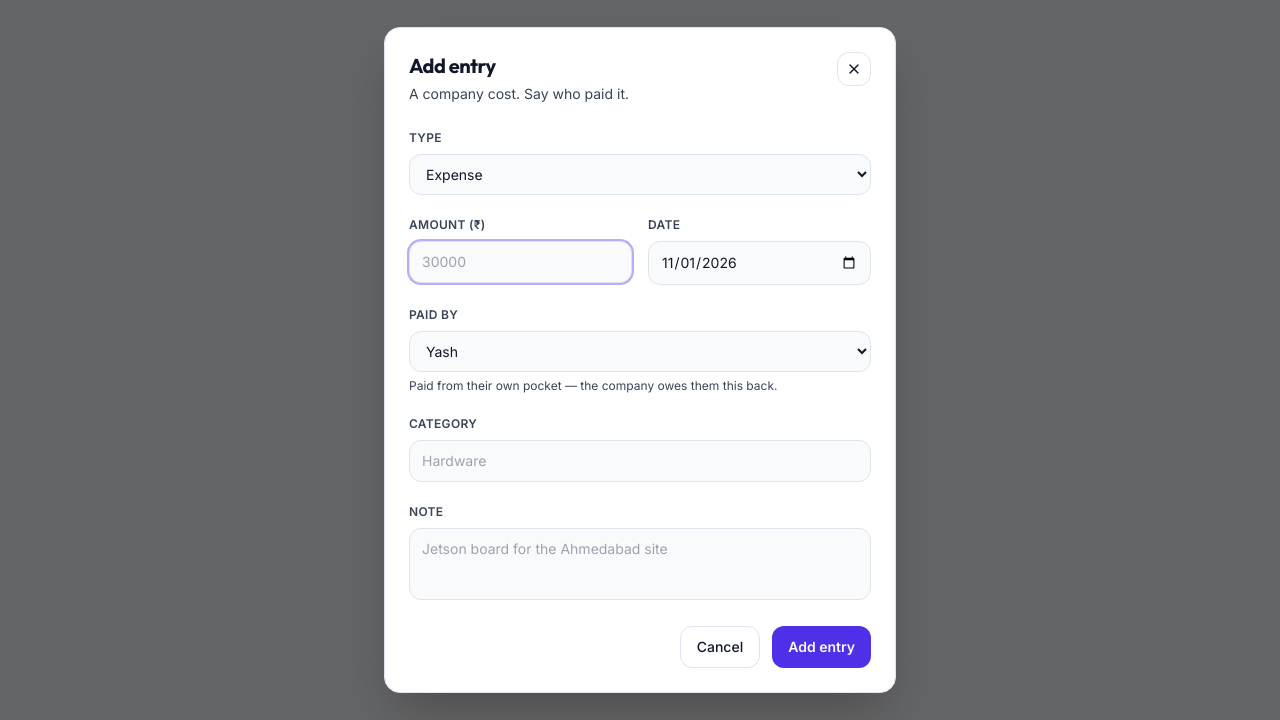
FundEntryDialog › refuses to save an empty amount
Click the button "Add entry" at point(822, 647), box x1=772 y1=626 x2=871 y2=668
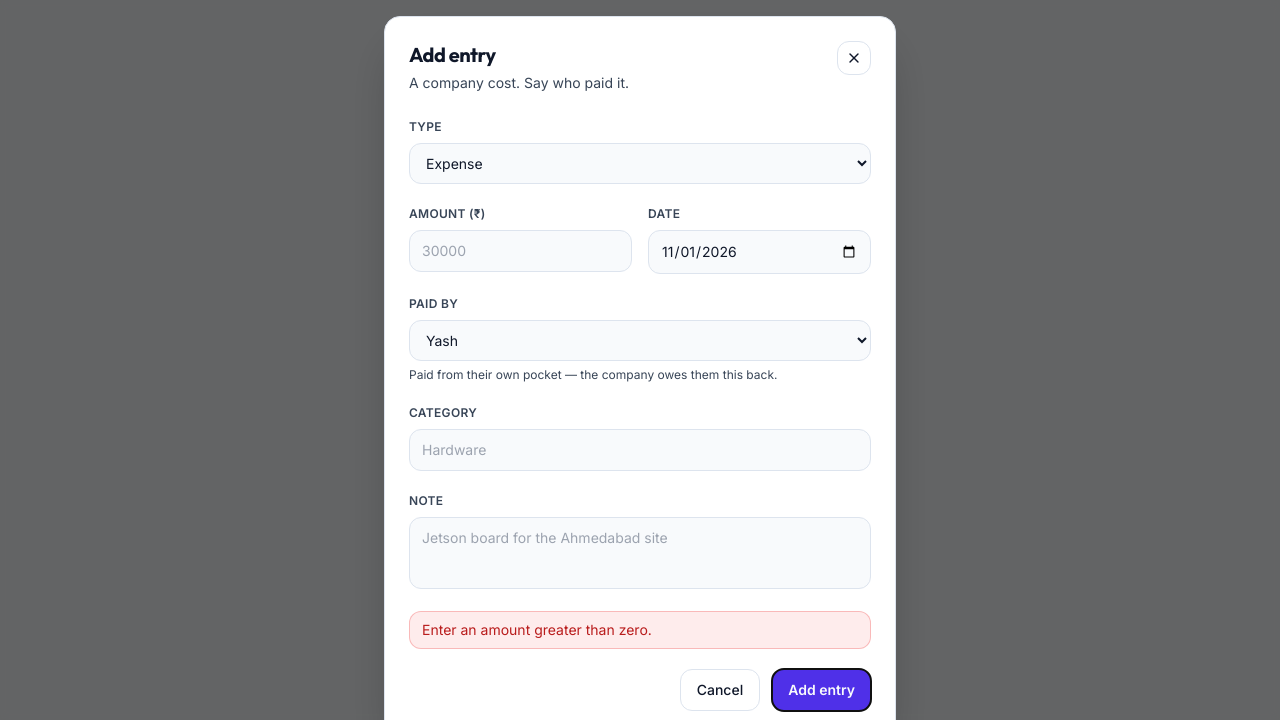
Expected: the text "Enter an amount greater than zero." is shown, x1=409 y1=611 x2=871 y2=649
